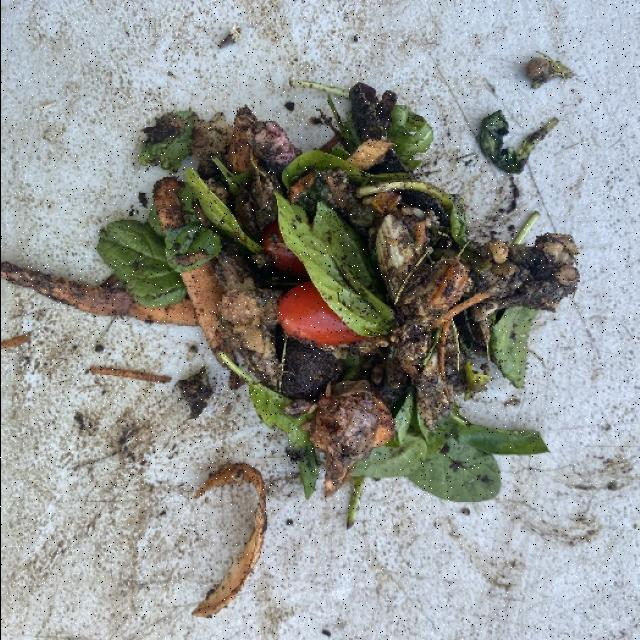organik: (86, 86, 574, 512)
